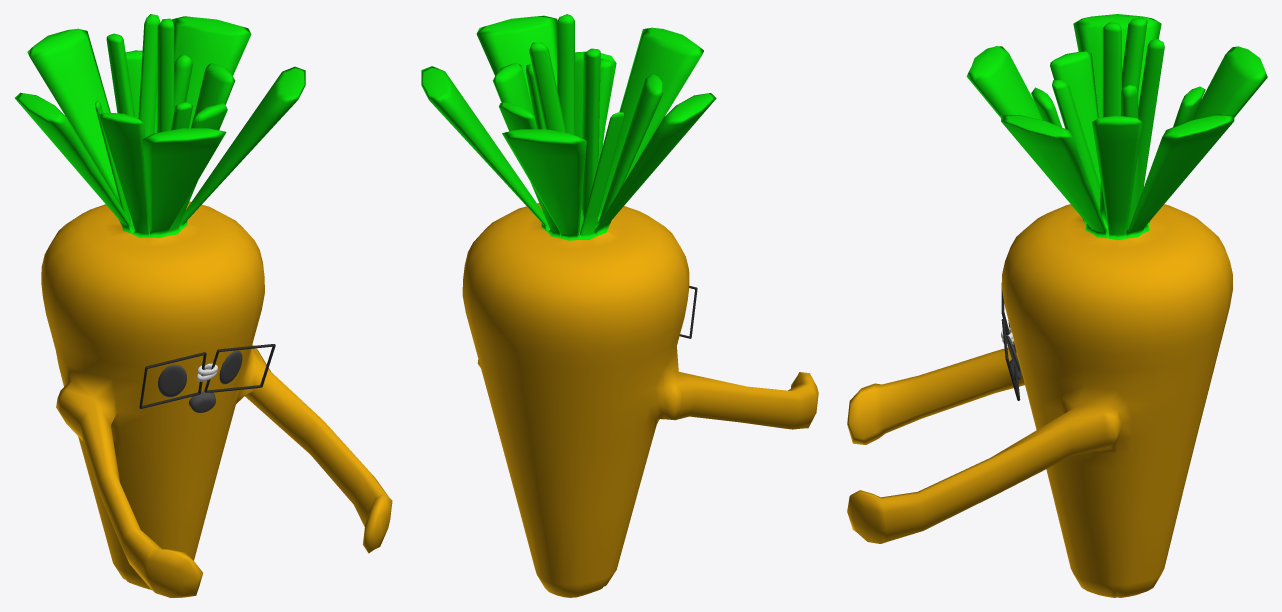
Rendered from carrot_standing_01_02.fbx.
3 renders of one model, left to right at view 1: azimuth 30°, elevation 25°; view 2: azimuth 150°, elevation 25°; view 3: azimuth 270°, elevation 25°, orthographic. The views are drawn at different scales.
Visible parts, largest first — view 1: pCone4; view 2: pCone4; view 3: pCone4.
Boxes of the visible parts, x1,y1,x2,y2 form: pCone4: (15,14,392,597); pCone4: (421,14,818,597); pCone4: (847,14,1267,597).
Size of the model in its own units: 1.09 by 2.34 by 1.56.
